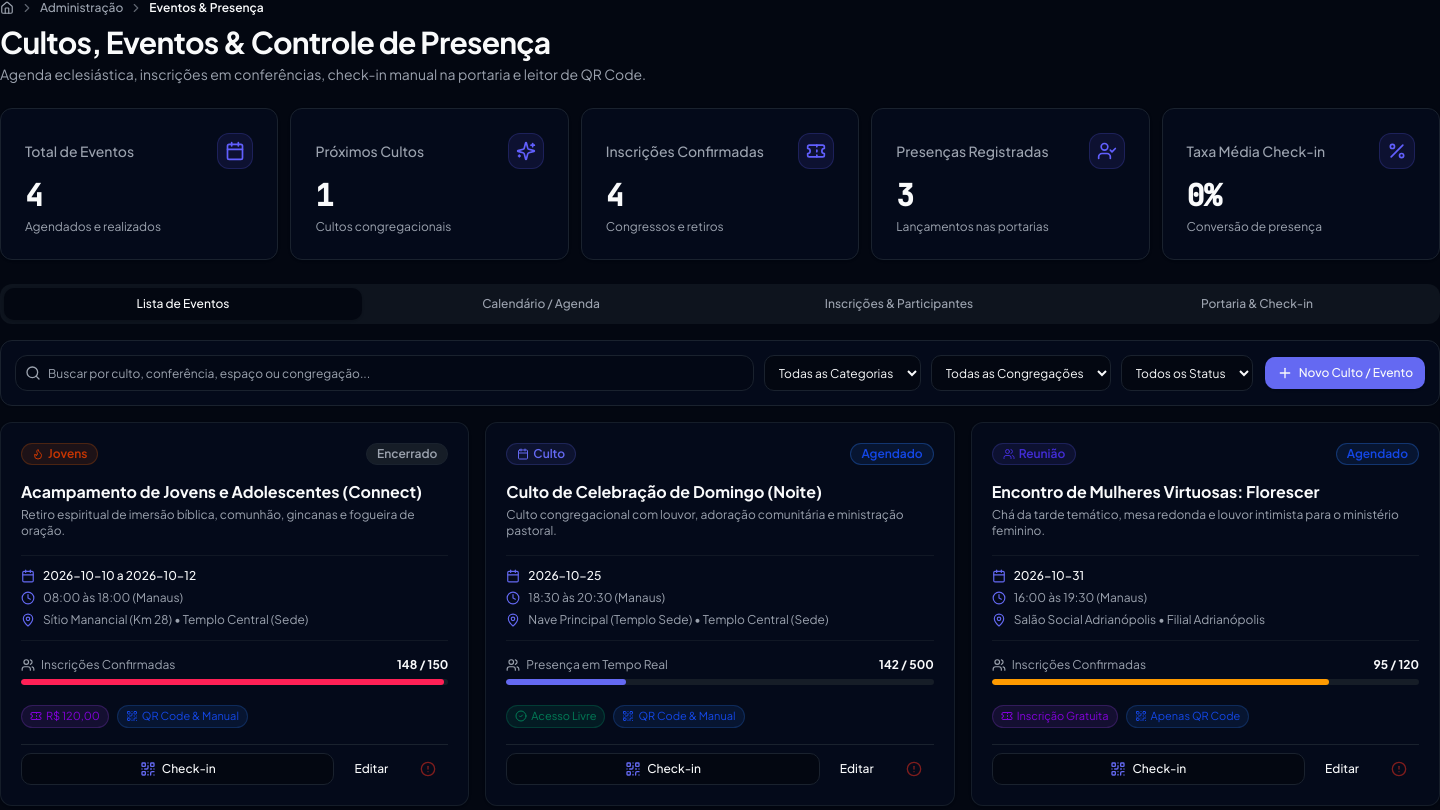
Etapa 06 — Eventos & Presença › deve registrar presença manual de participante e exibir feedback de sucesso
Check: the heading "Culto de Celebração de Domingo (Noite)" is shown, box [506,481,822,502]
Click the tab "Portaria & Check-in" at coordinates (1257, 304), box [1078,288,1436,320]
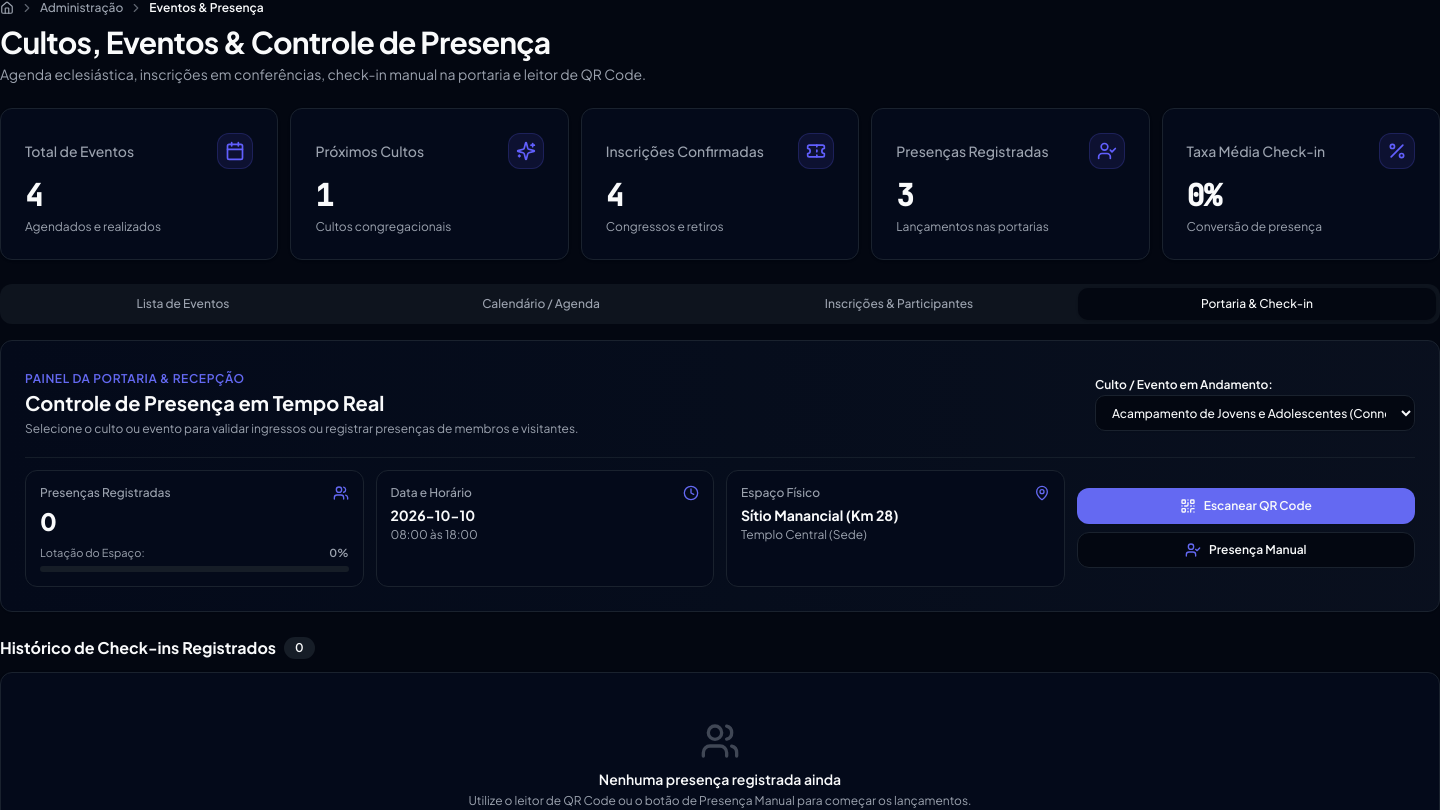
Check: the heading "Controle de Presença em Tempo Real" is shown, box [25,390,384,415]
# Abre modal de presença manual
Click the button "Presença Manual" at coordinates (1246, 550), box [1076,532,1415,568]
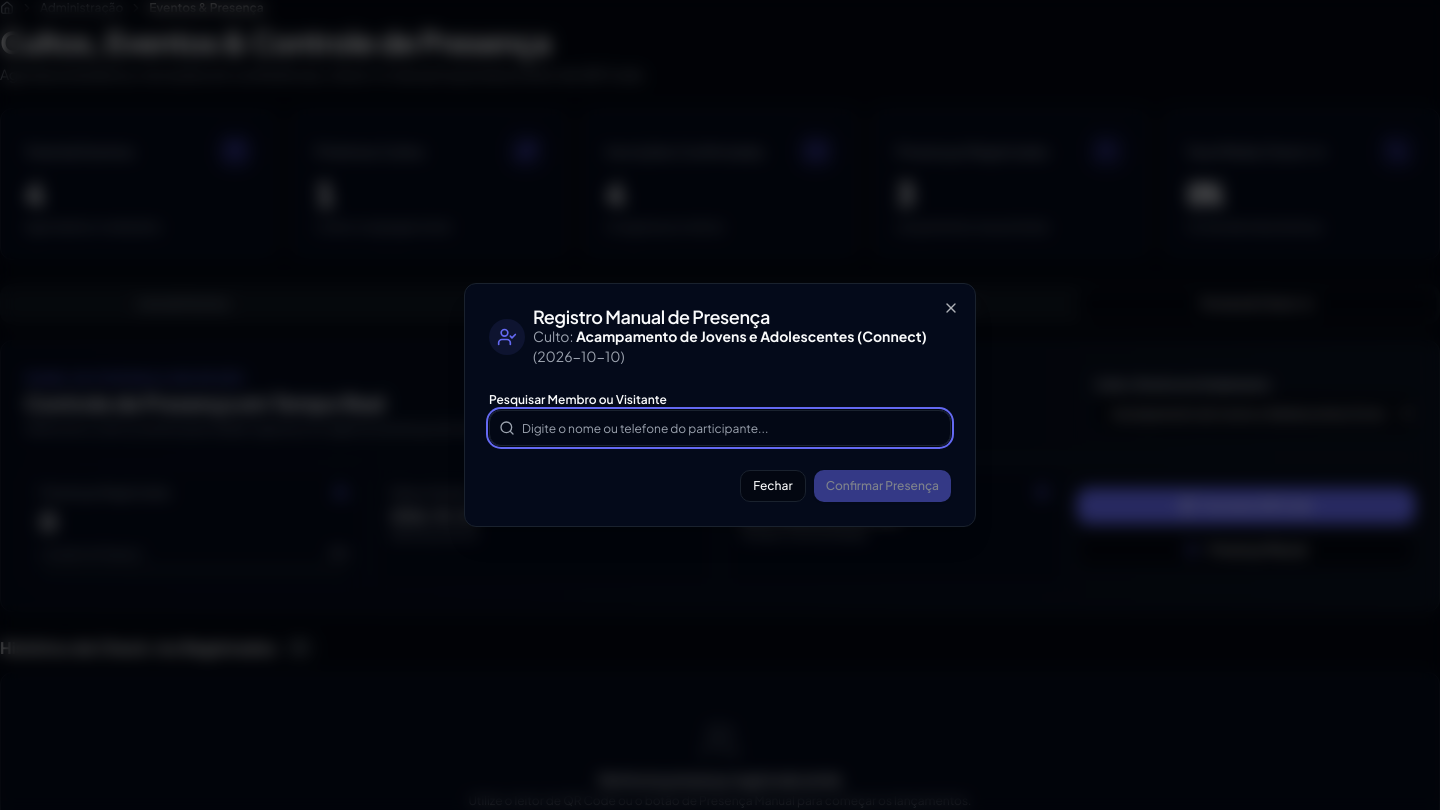
Check: the heading "Registro Manual de Presença" is shown, box [533,305,770,328]
# Pesquisa pelo membro Lucas
Type "Lucas" into the field with placeholder "Digite o nome ou telefone do participante..." at coordinates (720, 428), box [489,410,951,446]
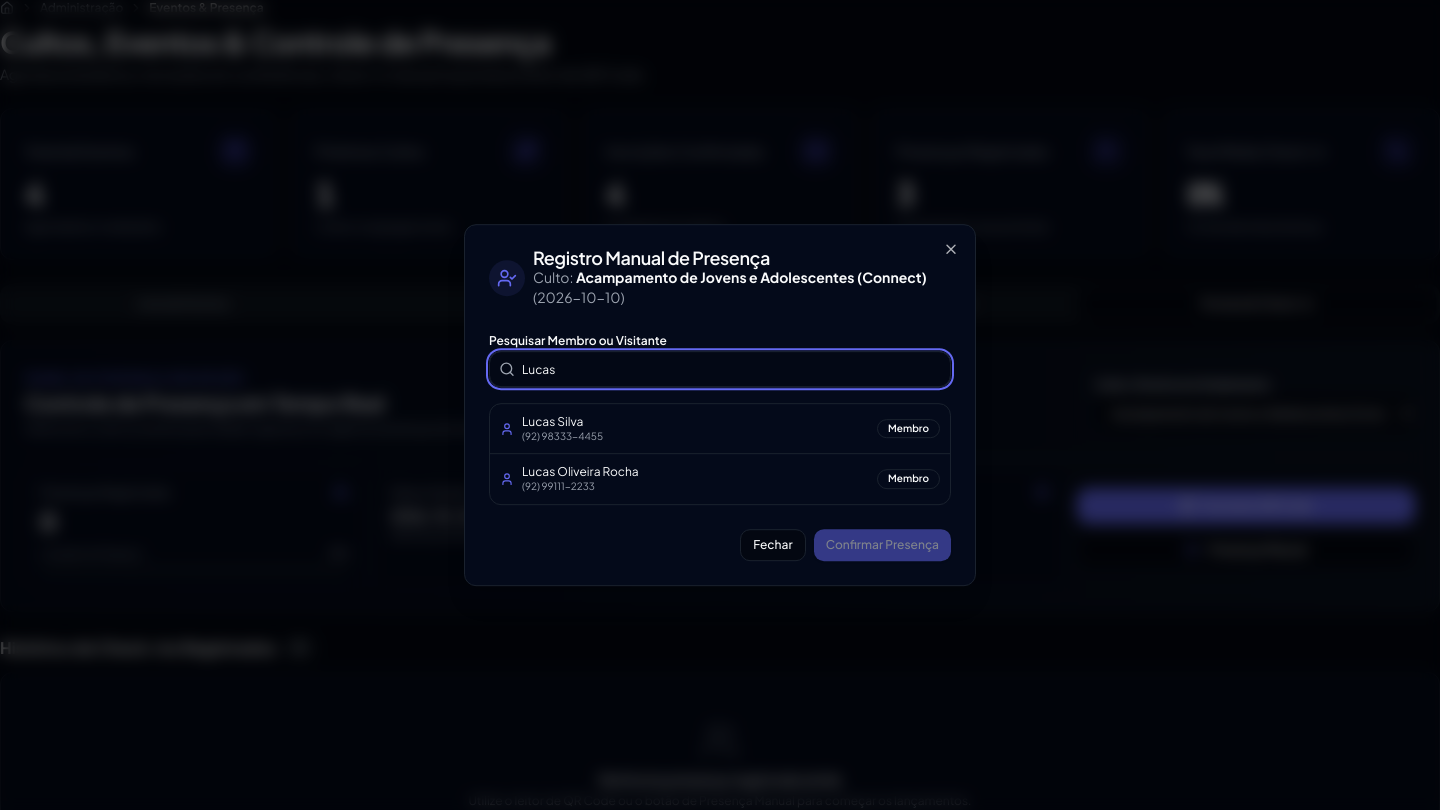
Check: the text "Lucas Silva" is shown, box [522,414,583,429]
# Seleciona Lucas Silva
Click the button with test id "attendee-option-mem-04" at coordinates (553, 422), box [490,404,950,454]
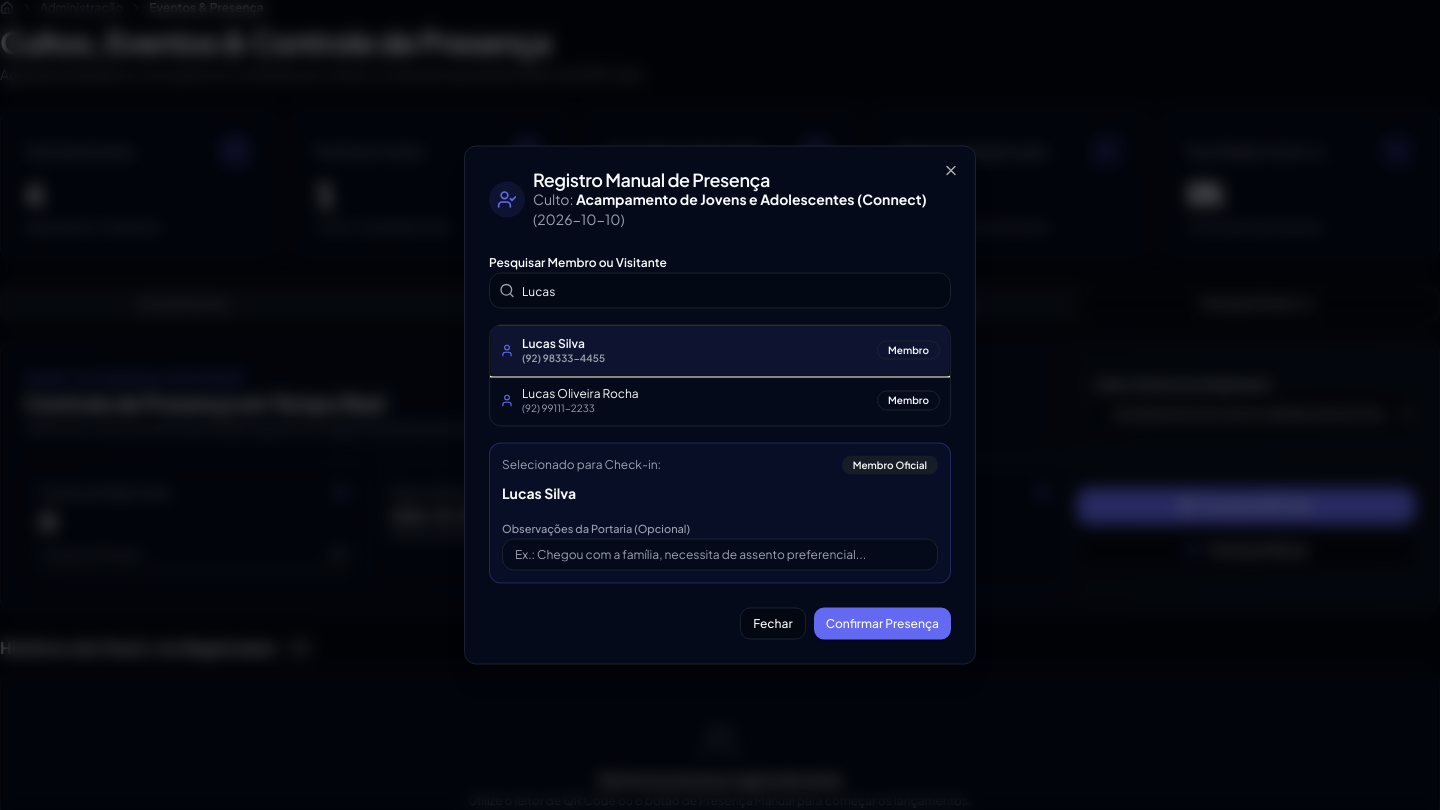
# Confirma presença
Click the button "Confirmar Presença" at coordinates (882, 624), box [814,608,951,640]
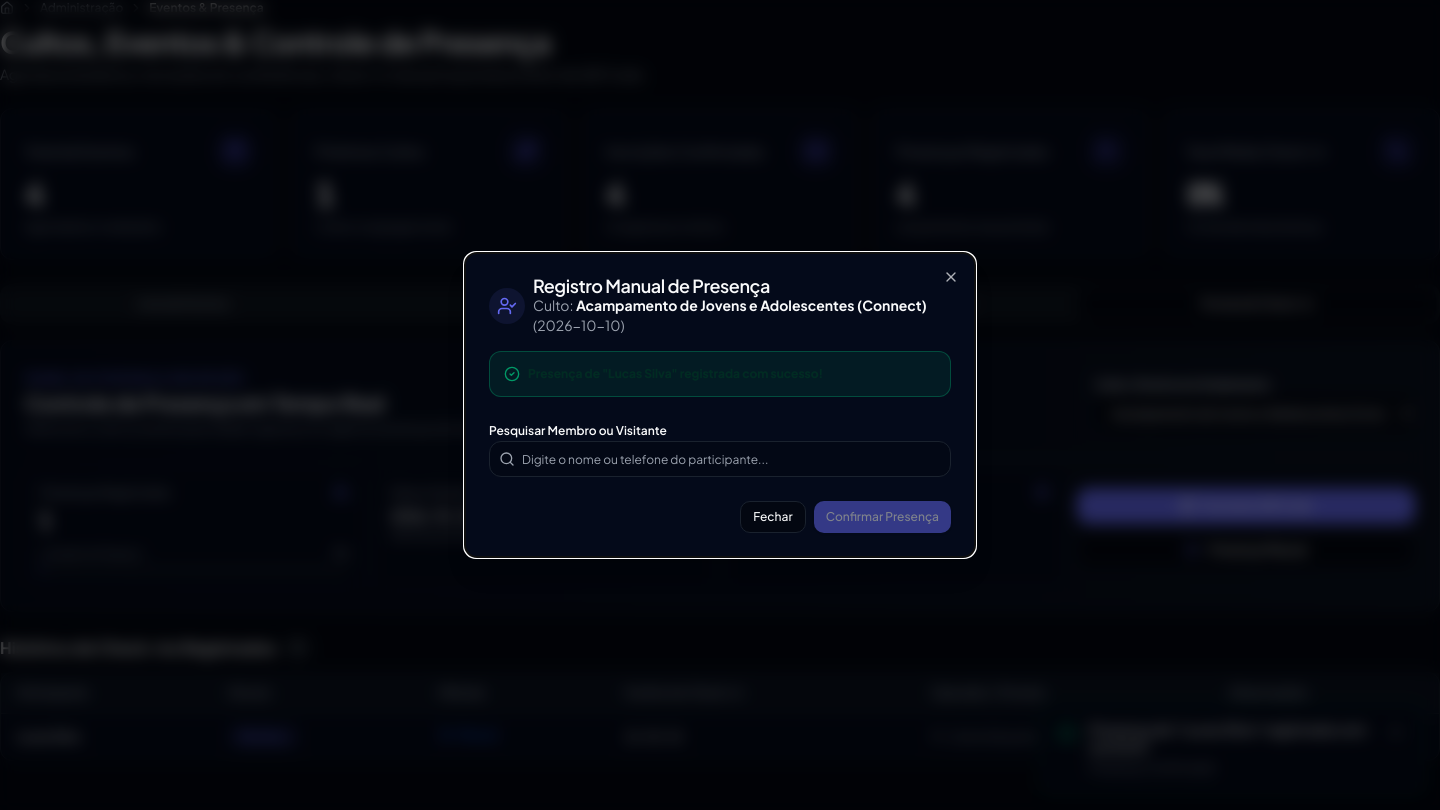
Check: the message "Presença de \"Lucas Silva\" registrada com sucesso!" is shown, box [489,351,951,397]
